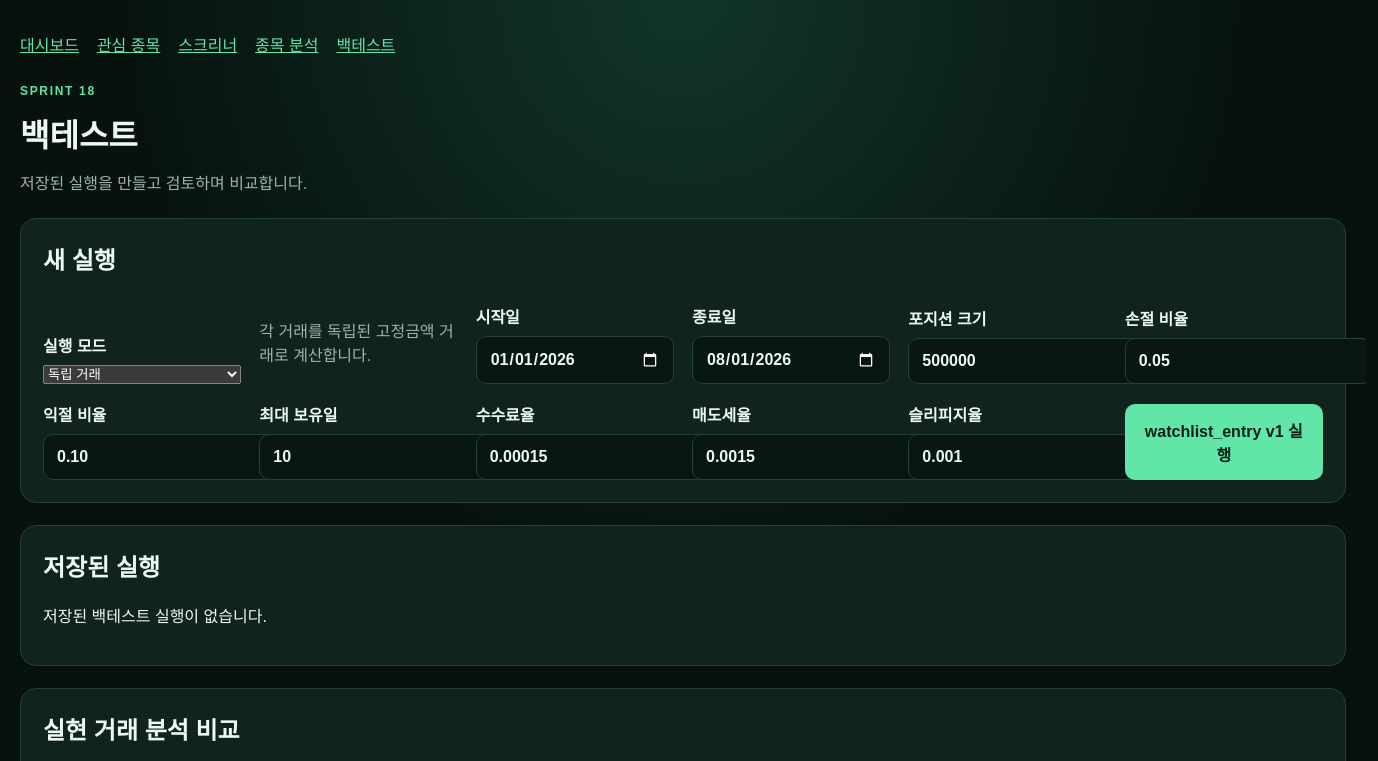
Test case: run creation › shows backend validation details
The width and height of the screenshot is (1378, 761).
Expected: the text "저장된 백테스트 실행이 없습니다." is shown, [43,608,267,625]
Click the button "watchlist_entry v1 실행". click: (1224, 442)
box: [1125,404,1323,480]
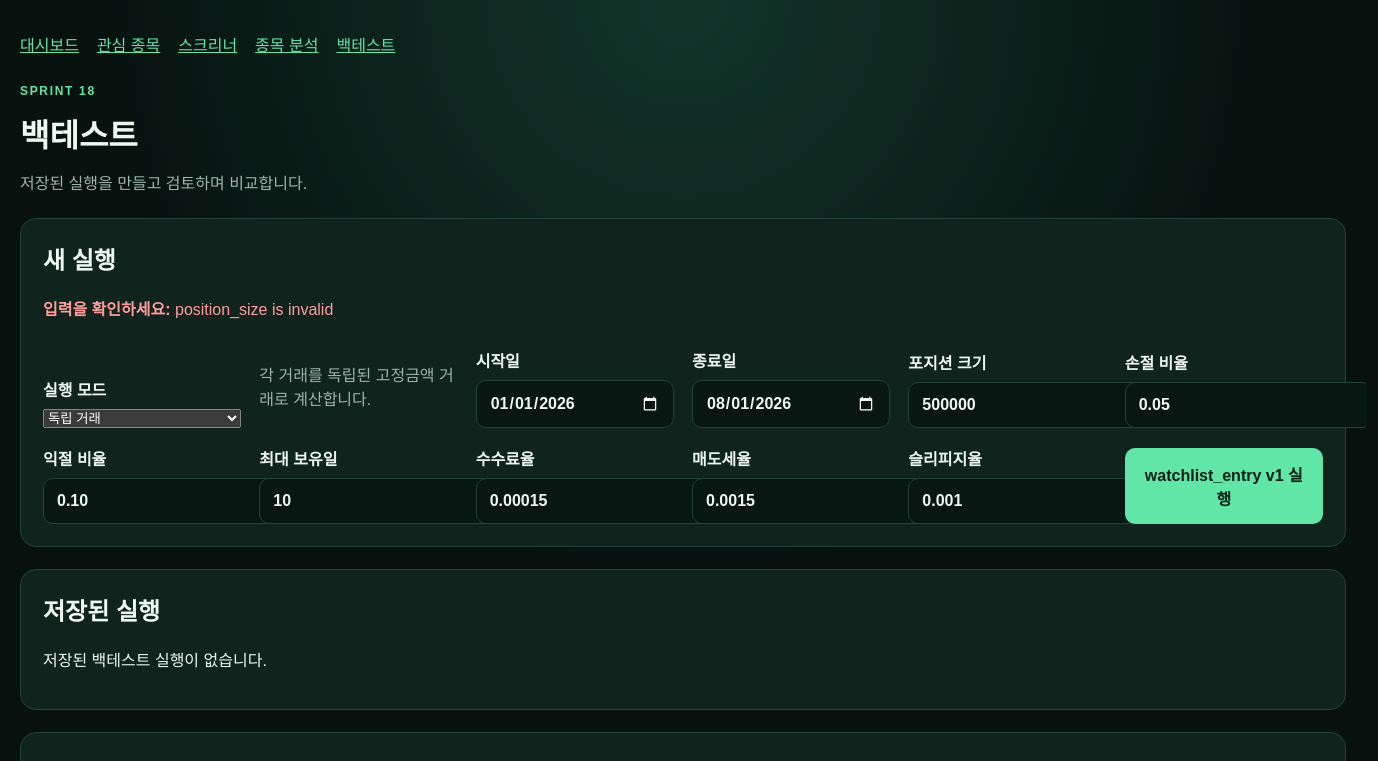
Result: the message shows "position_size is invalid" at [175,301,333,318]
